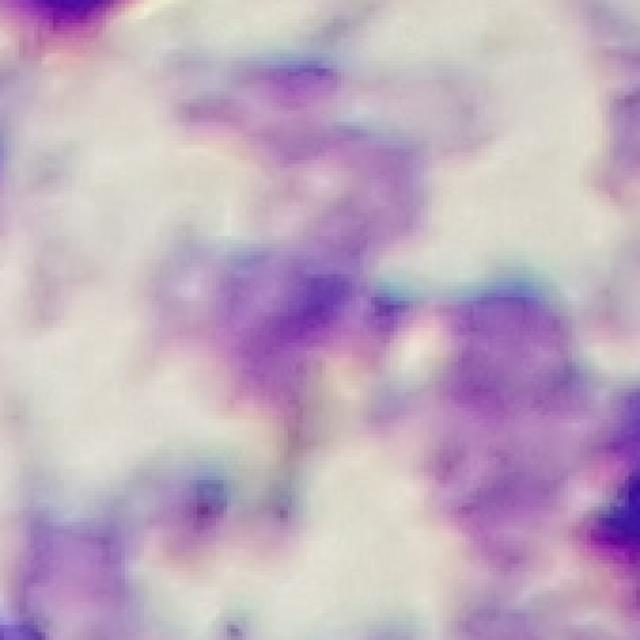non-sperm: (168, 53, 412, 548)
